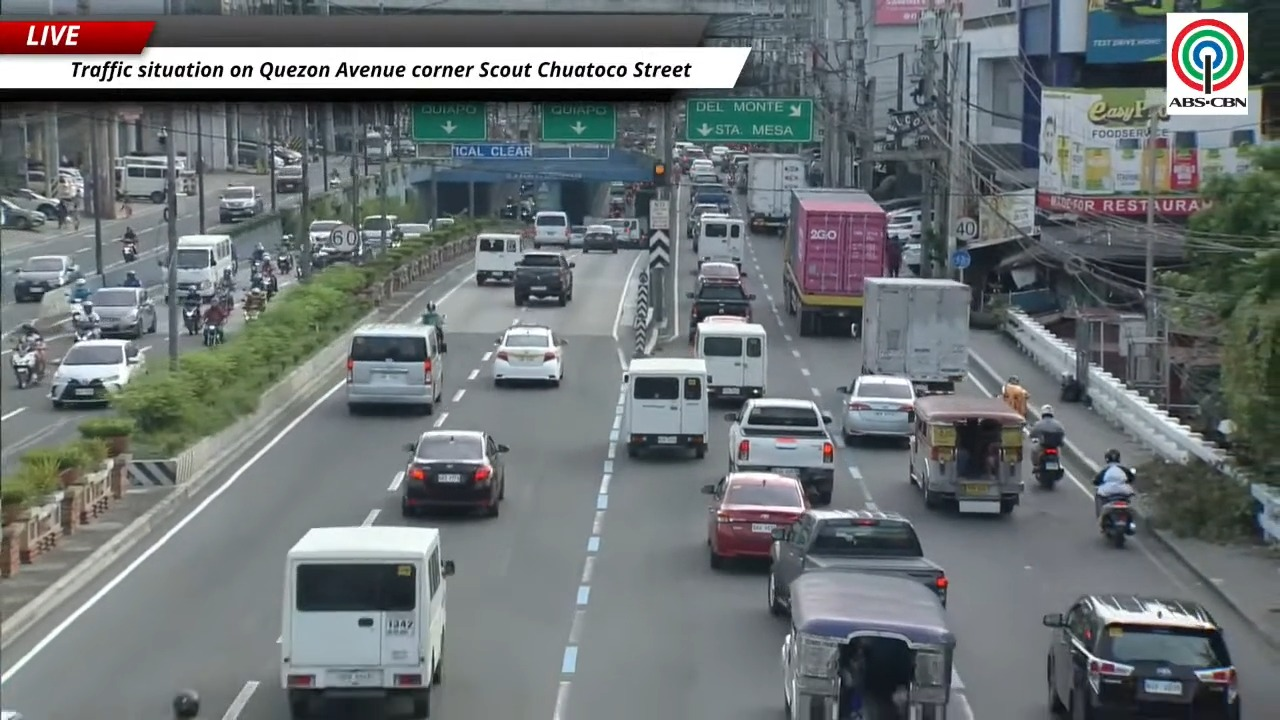car: (1043, 594, 1240, 719), (702, 473, 808, 568), (401, 429, 507, 516), (50, 339, 144, 408), (838, 375, 915, 445), (493, 325, 566, 385), (686, 284, 754, 336), (90, 288, 157, 338), (513, 251, 575, 305), (14, 255, 82, 302), (219, 185, 263, 223), (4, 188, 57, 218), (0, 198, 47, 230), (697, 261, 745, 285), (686, 203, 718, 236), (887, 208, 922, 237), (581, 226, 618, 253), (308, 219, 343, 245), (275, 165, 304, 193), (901, 240, 922, 274), (395, 223, 431, 238), (700, 315, 748, 323), (569, 225, 587, 246), (690, 171, 718, 183), (0, 710, 23, 719)
motorcycle: (1098, 489, 1135, 547), (1100, 495, 1135, 547), (1033, 448, 1064, 489), (11, 347, 39, 389), (421, 313, 447, 352), (202, 320, 222, 346), (182, 306, 199, 335), (74, 323, 100, 341), (67, 293, 83, 320), (121, 241, 138, 263), (276, 254, 293, 273), (243, 307, 260, 321), (328, 176, 342, 189)
truck: (768, 508, 948, 614), (783, 188, 888, 336), (860, 277, 970, 393), (725, 397, 835, 505), (746, 153, 807, 233)
